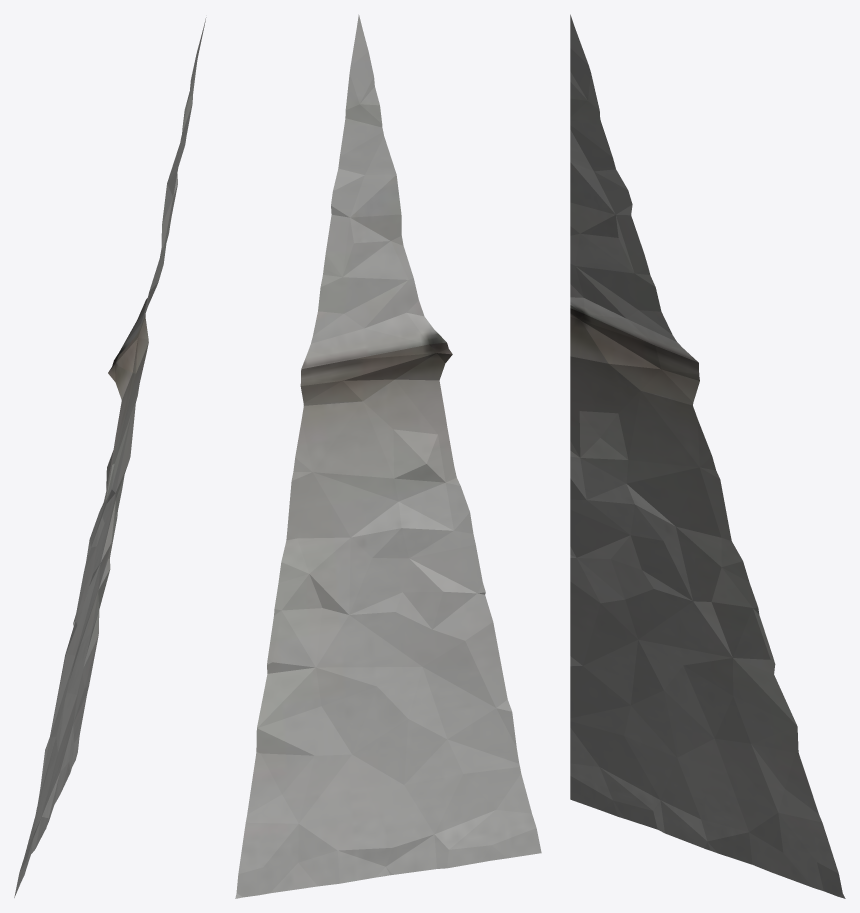
3 views of the same model, side by side, from view 1: azimuth 30°, elevation 25°; view 2: azimuth 150°, elevation 25°; view 3: azimuth 270°, elevation 25° (orthographic). The views are drawn at different scales.
Size of the model in its own units: 0.1635 by 0.6788 by 0.1914.
Materials: 1 (1 with a texture image).
